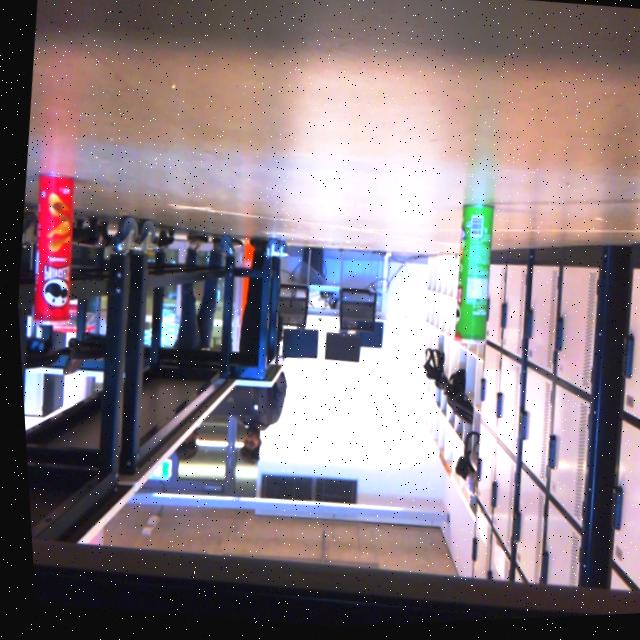greenpringles: (434, 189, 511, 358)
redpringles: (13, 161, 93, 334)
